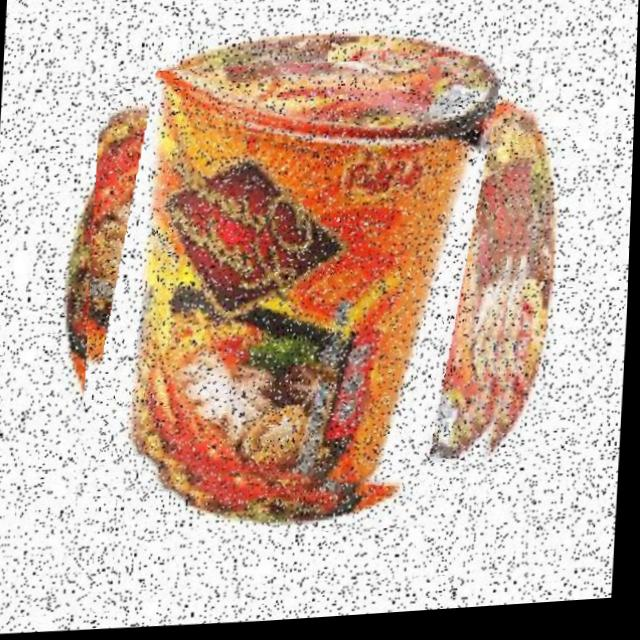Miscellaneous: (80, 52, 538, 520)
